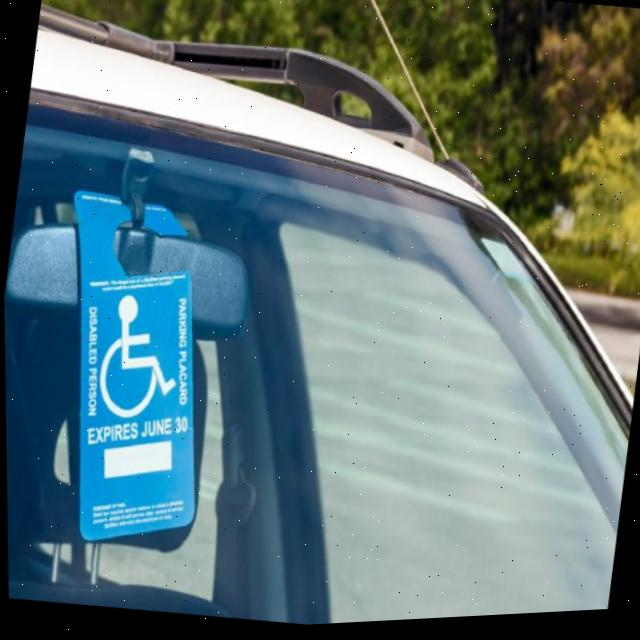symbol_of_access: (78, 280, 196, 437)
